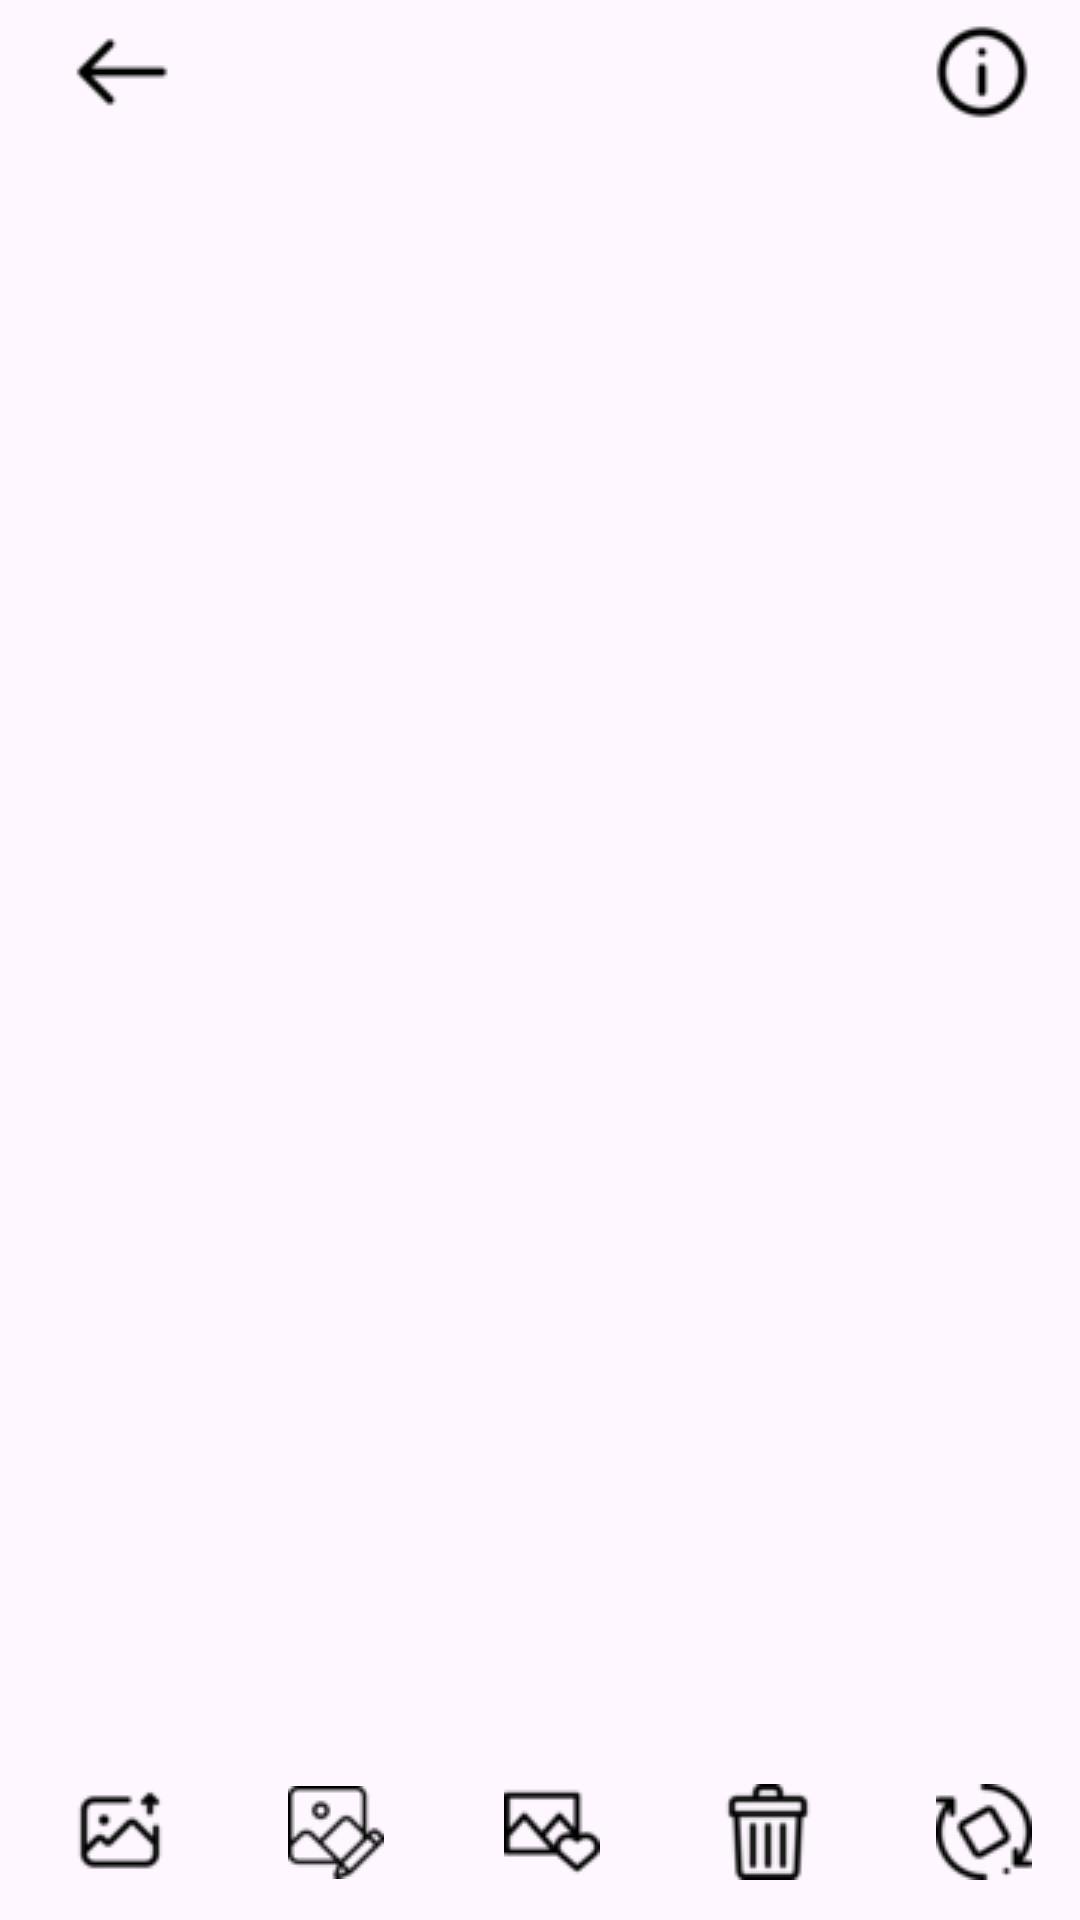

Icon click points for this 1080x1920 phone screenshot, format [x,y]:
back: [122,72]
edit: [336,1832]
info: [982,72]
like: [552,1832]
rotate: [984,1832]
share: [120,1830]
trash: [768,1832]
